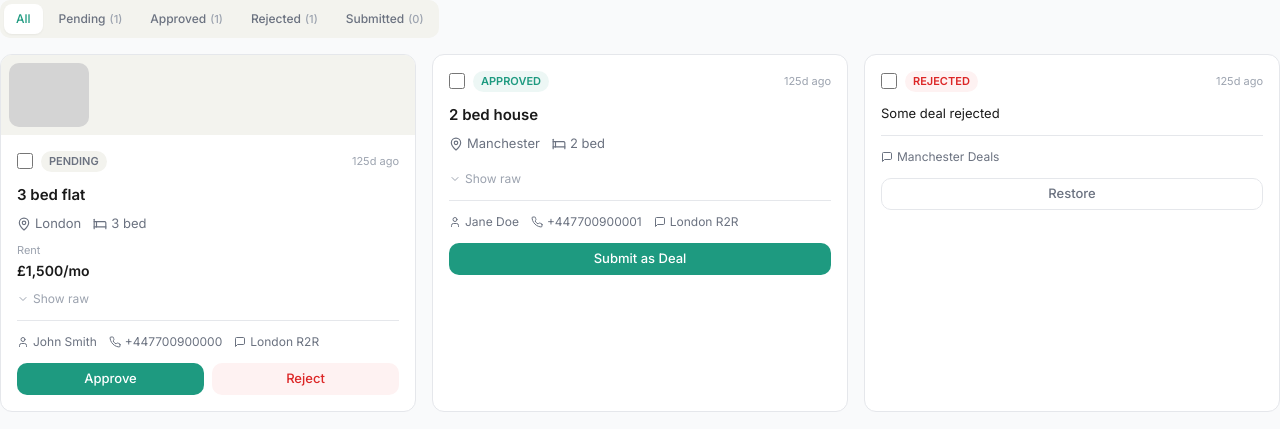
Test: DealQueue › filters by status tab
Click the tab "Pending(1)" at (90, 19), box [47,4,134,34]
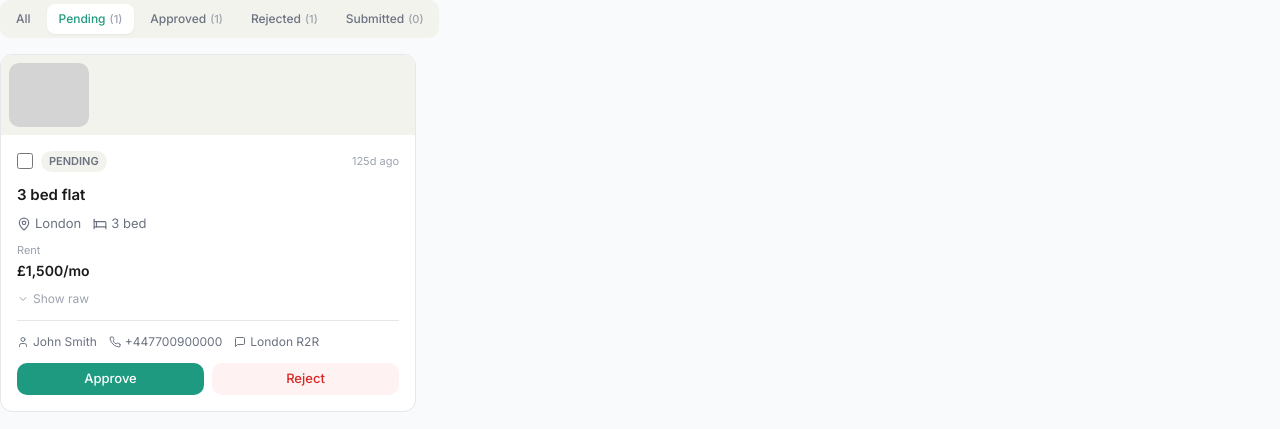
Expected: the heading "3 bed flat" is shown, [17,184,85,204]
Expected: the heading "2 bed house" is gone
